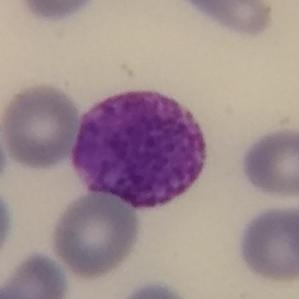Basophil: (64, 79, 218, 219)
RBC: (48, 187, 142, 279), (0, 80, 82, 169), (234, 204, 299, 284), (238, 125, 299, 200), (179, 0, 277, 39), (0, 249, 71, 299), (14, 0, 103, 24), (115, 277, 197, 299), (0, 181, 15, 263), (0, 116, 9, 190)
